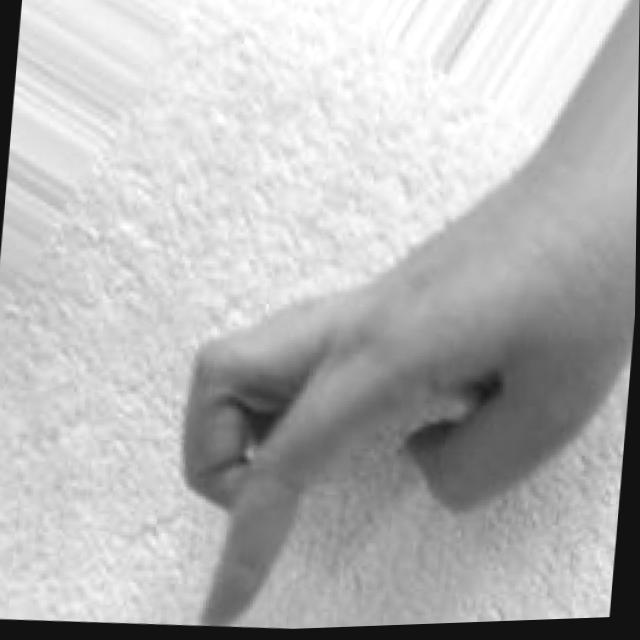P: (166, 158, 637, 634)
